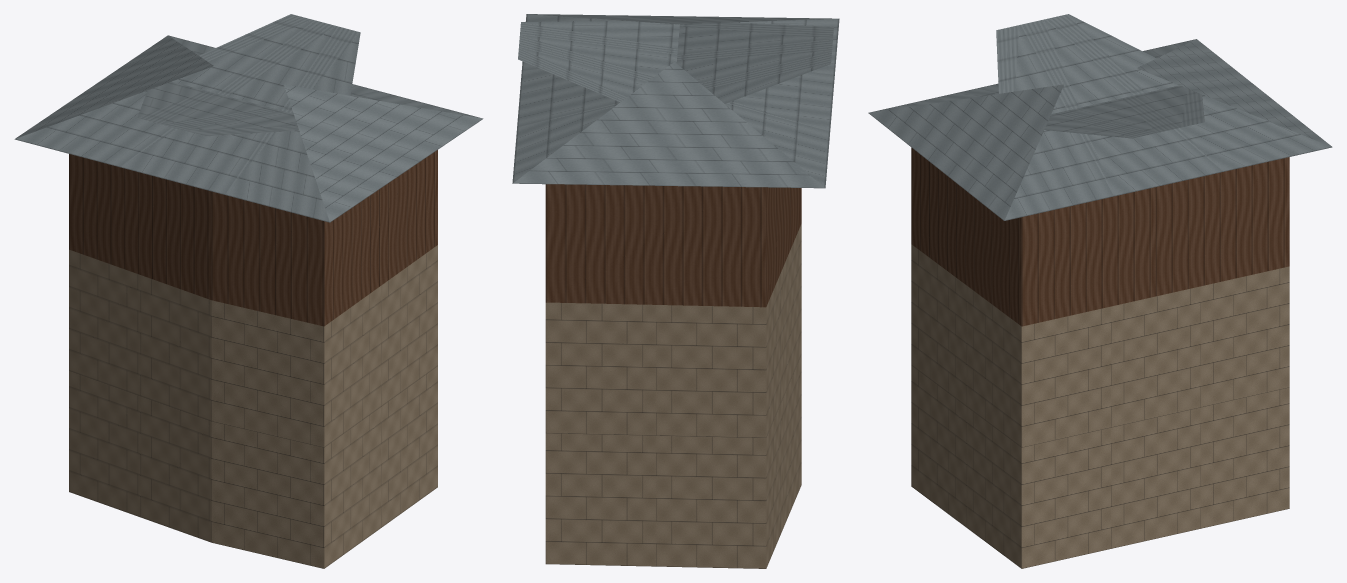
The model's file is bld_c38_-11_535.gltf.
3 renders of one model, left to right at view 1: azimuth 30°, elevation 25°; view 2: azimuth 150°, elevation 25°; view 3: azimuth 270°, elevation 25°, orthographic. The views are drawn at different scales.
Parts seen in each view (by area): view 1: bld_c38_-11_535; view 2: bld_c38_-11_535; view 3: bld_c38_-11_535.
Boxes of the visible parts, <box> form: bld_c38_-11_535: <box>14,14,483,568</box>; bld_c38_-11_535: <box>512,14,839,568</box>; bld_c38_-11_535: <box>868,14,1332,568</box>.
Bounding box in the file's own units: 7.26 × 7.8 × 7.83.
3 materials, 3 textured.
